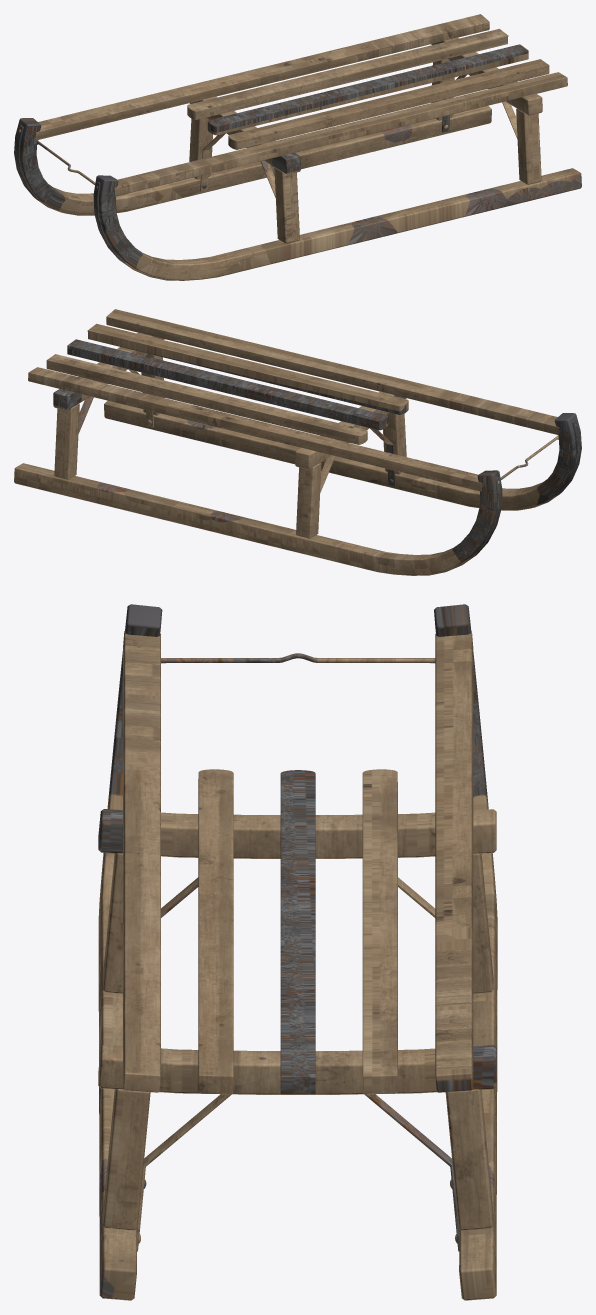
File: Sled01Old.obj
3 views of the same model, one above another, from view 1: azimuth 30°, elevation 25°; view 2: azimuth 150°, elevation 25°; view 3: azimuth 270°, elevation 25° (orthographic). The views are drawn at different scales.
Parts seen in each view (by area): view 1: Sled01Old; view 2: Sled01Old; view 3: Sled01Old.
Boxes of the visible parts, x1=… form: Sled01Old: x1=14, y1=14, x2=581, y2=280; Sled01Old: x1=14, y1=309, x2=581, y2=575; Sled01Old: x1=98, y1=604, x2=497, y2=1300.
Size of the model in its own units: 1.1 by 0.2668 by 0.4008.
1 material, 1 textured.
